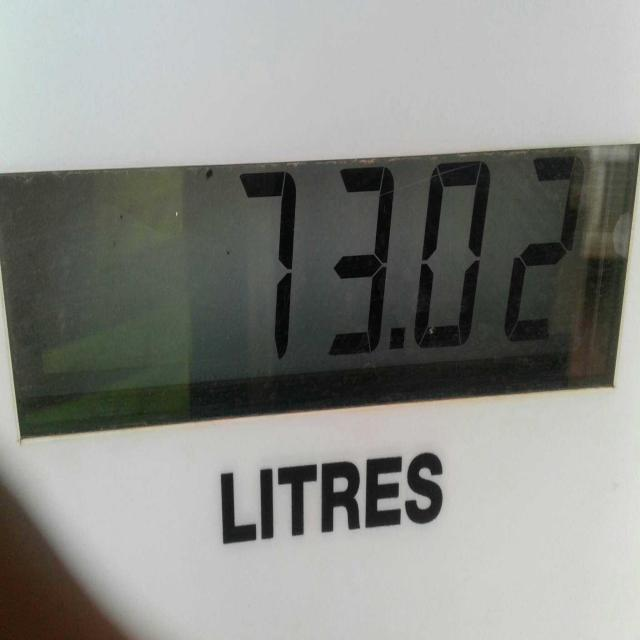.: (380, 304, 419, 382)
0: (406, 152, 500, 379)
2: (495, 155, 597, 358)
3: (324, 169, 400, 378)
7: (232, 162, 324, 392)
